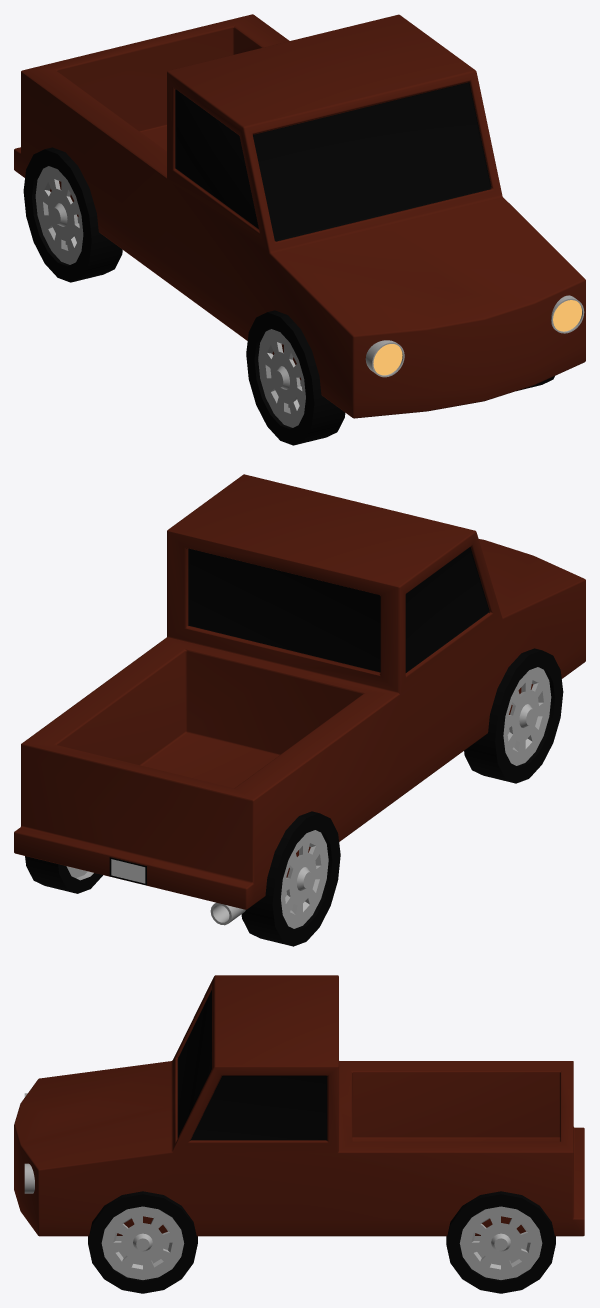
Rendered from pickupTruck.glb.
3 views of the same model, one above another, from view 1: azimuth 30°, elevation 25°; view 2: azimuth 150°, elevation 25°; view 3: azimuth 270°, elevation 25° (orthographic). The views are drawn at different scales.
Parts seen in each view (by area): view 1: truck-body, trucktires-front, trucktires-back, truck-headlights; view 2: truck-body, trucktires-back, trucktires-front, truck-license-plate; view 3: truck-body, trucktires-front, trucktires-back.
Part boxes in pixels (x1,y1,x2,y2): truck-body: (14, 14, 585, 418); trucktires-front: (246, 310, 554, 445); trucktires-back: (23, 147, 122, 282); truck-headlights: (365, 295, 584, 377); truck-body: (14, 474, 585, 909); trucktires-back: (25, 811, 340, 946); trucktires-front: (464, 648, 563, 783); truck-license-plate: (109, 857, 146, 885); truck-body: (14, 975, 584, 1236); trucktires-front: (88, 1191, 197, 1293); trucktires-back: (446, 1191, 555, 1293).
Bounding box in the file's own units: 28.06 × 29.78 × 68.78.
